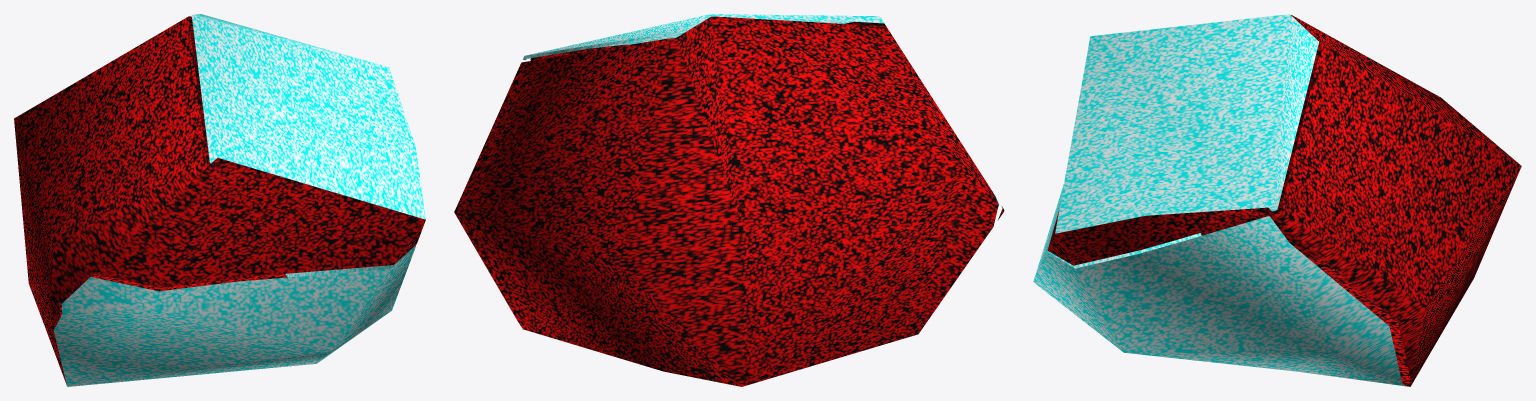
File: SM_Rock_01_LGS.fbx
The picture shows the model from 3 angles, left to right: view 1: azimuth 30°, elevation 25°; view 2: azimuth 150°, elevation 25°; view 3: azimuth 270°, elevation 25°; orthographic projection. The views are drawn at different scales.
Parts seen in each view (by area): view 1: SM_Rock_01_LGS; view 2: SM_Rock_01_LGS; view 3: SM_Rock_01_LGS.
Boxes of the visible parts, bbox=[...] form: SM_Rock_01_LGS: bbox=[14, 14, 425, 386]; SM_Rock_01_LGS: bbox=[454, 14, 1004, 386]; SM_Rock_01_LGS: bbox=[1033, 14, 1521, 386].
Size of the model in its own units: 37.26 by 26.64 by 37.45.
